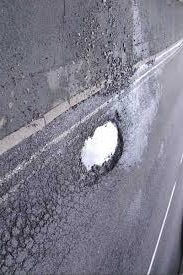pothole: (75, 113, 125, 188)
